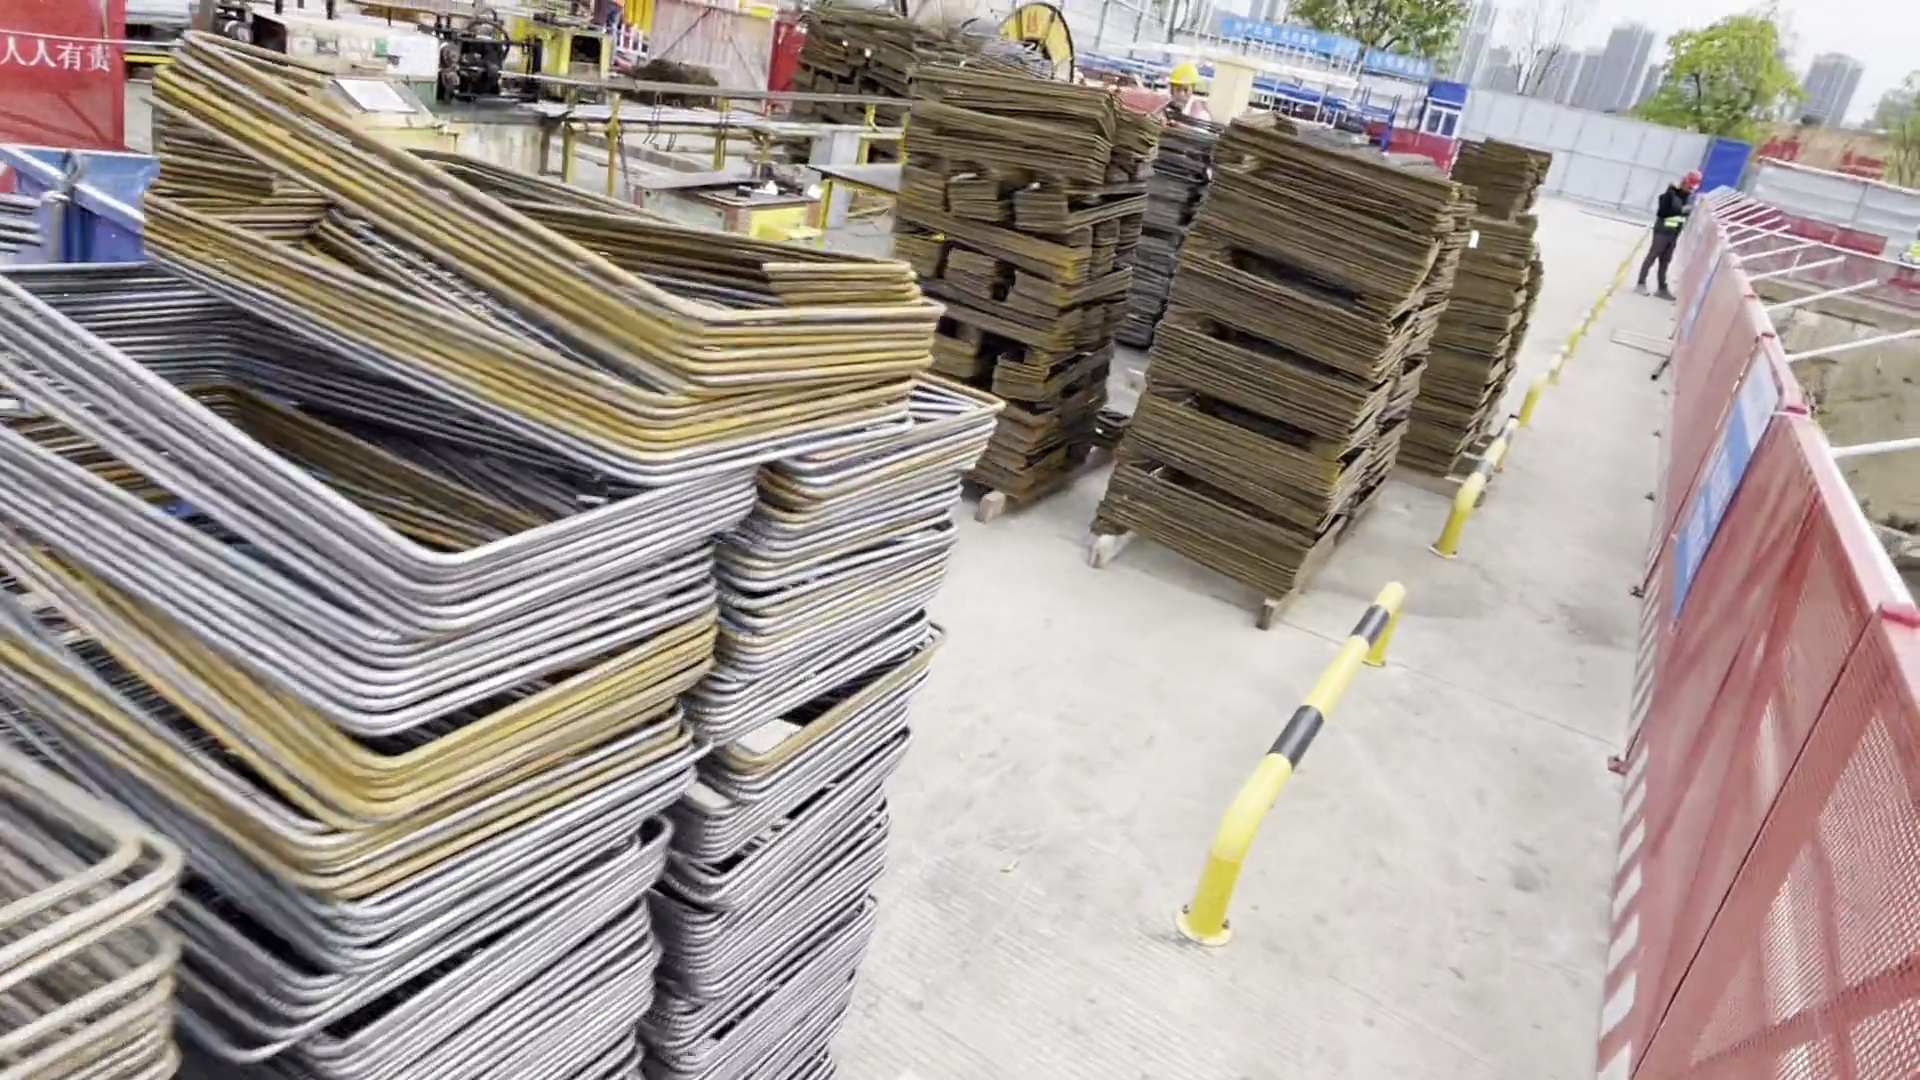cutter: (627, 154, 818, 236), (511, 8, 617, 99)
ebox: (1203, 64, 1253, 123)
fence: (1602, 222, 1919, 1080), (2, 4, 123, 151)
helmet: (1167, 67, 1198, 86), (1681, 171, 1698, 186)
hopper: (6, 146, 157, 258)
person: (1631, 173, 1709, 300), (1163, 65, 1204, 138), (1893, 223, 1920, 279), (575, 4, 619, 35)
slogan: (1667, 357, 1769, 616), (1225, 13, 1431, 93)
